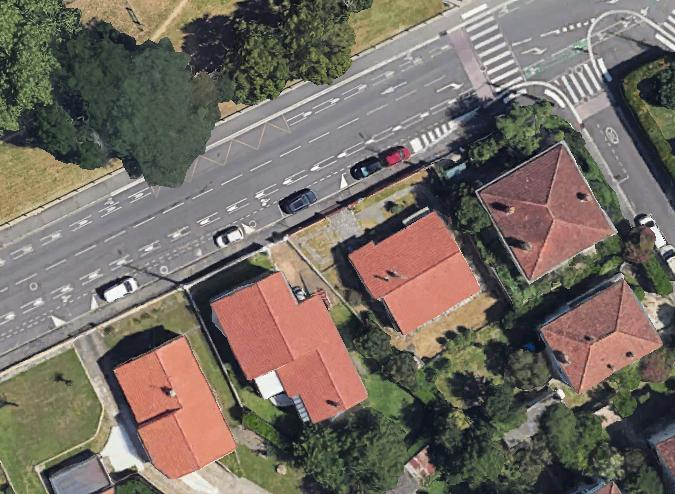maison: (204, 258, 367, 444), (474, 141, 616, 285), (108, 334, 237, 486), (346, 204, 485, 339), (531, 277, 662, 399), (650, 421, 674, 491), (590, 482, 620, 493)
